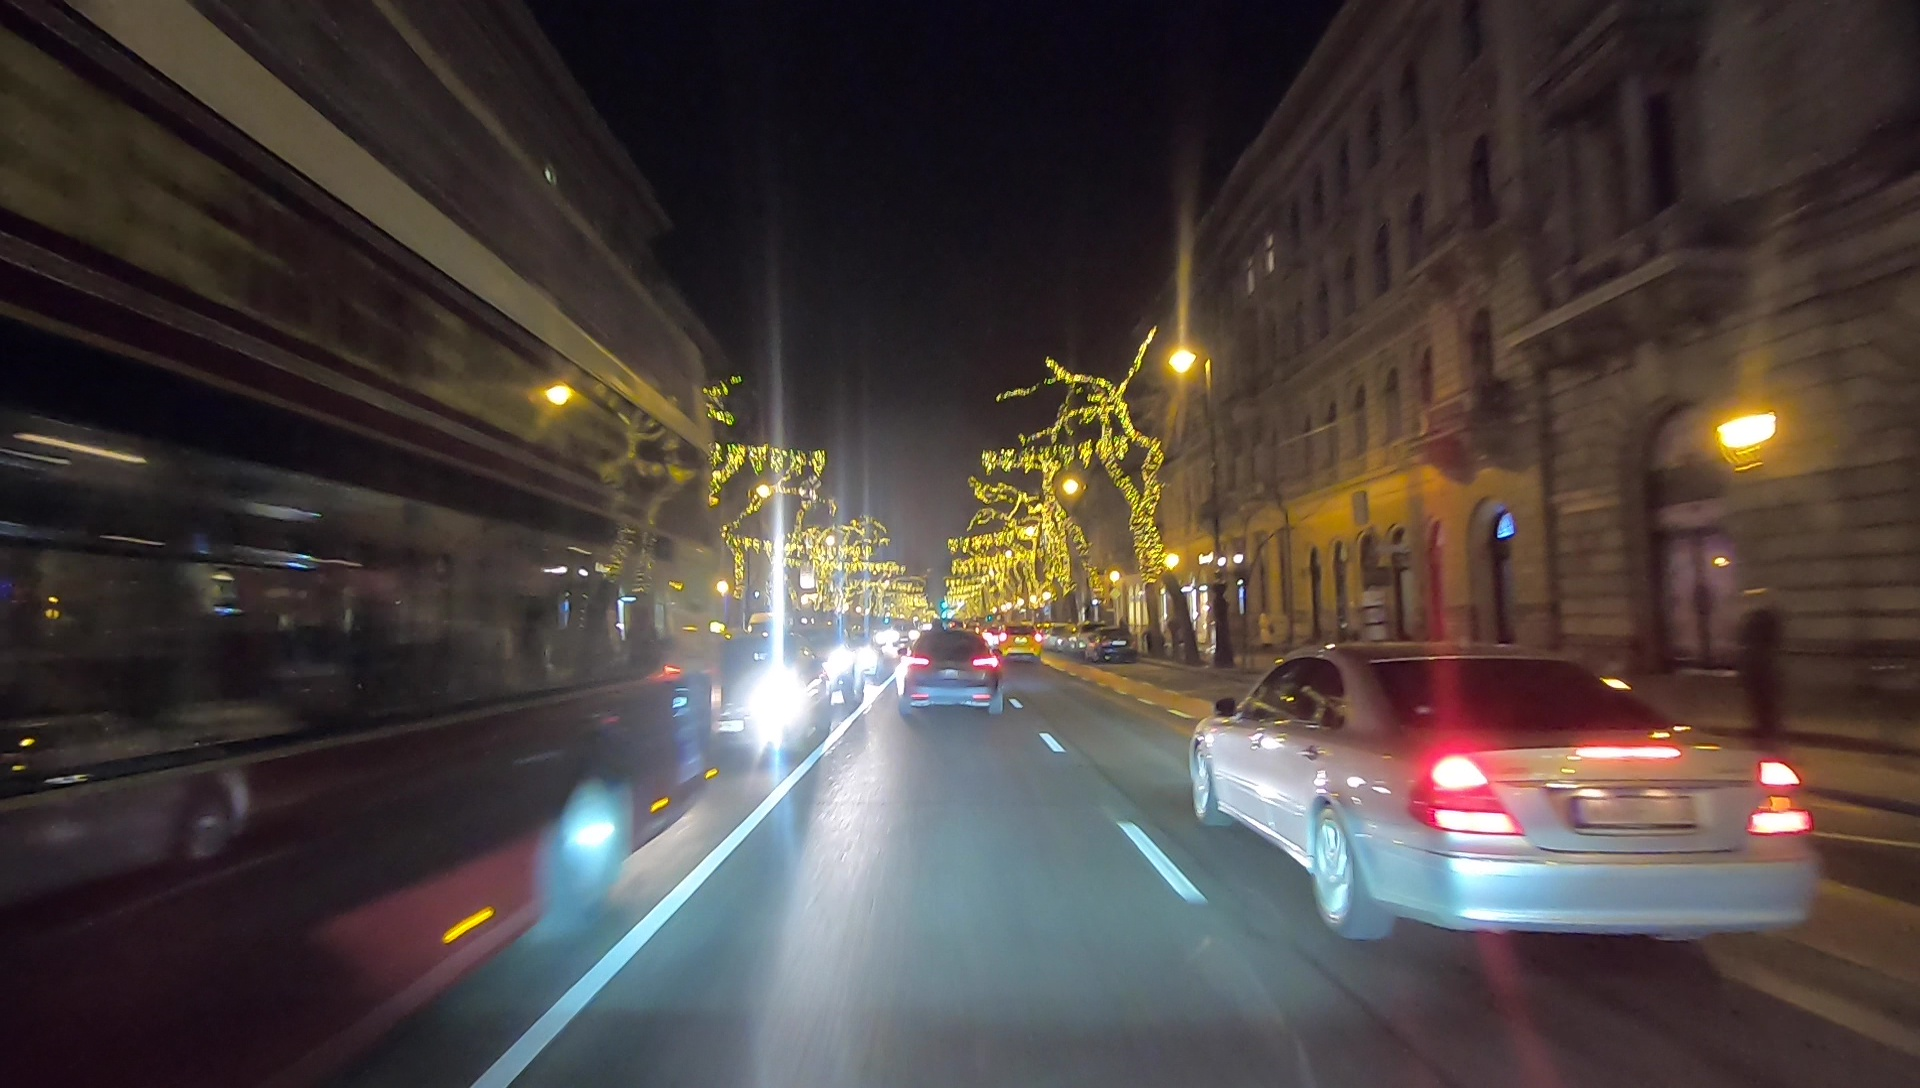person: (1728, 593, 1786, 749)
